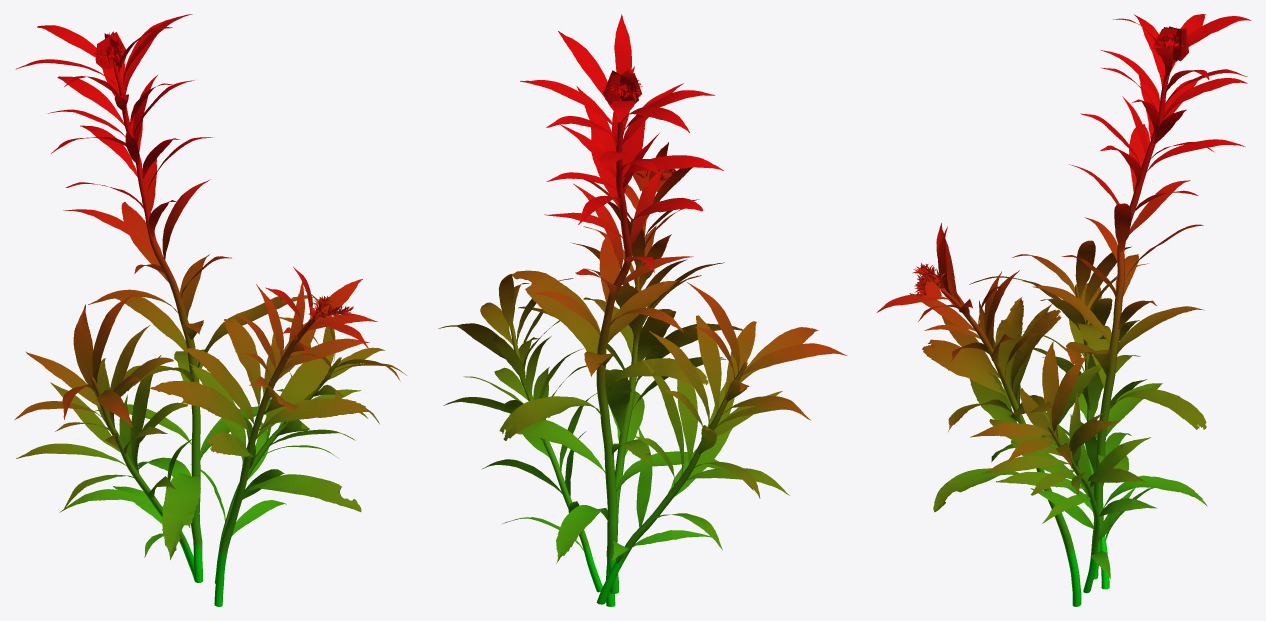
The model's file is Goldenrods_LOD1_Var5.fbx.
3 views of the same model, side by side, from view 1: azimuth 30°, elevation 25°; view 2: azimuth 150°, elevation 25°; view 3: azimuth 270°, elevation 25° (orthographic). The views are drawn at different scales.
Visible parts, largest first — view 1: _xmap_Var5_LOD1; view 2: _xmap_Var5_LOD1; view 3: _xmap_Var5_LOD1.
Part boxes in pixels (x1,y1,x2,y2): _xmap_Var5_LOD1: (14,14,406,606); _xmap_Var5_LOD1: (438,14,847,606); _xmap_Var5_LOD1: (876,14,1251,606).
Bounding box in the file's own units: 64.16 × 97.2 × 57.81.
